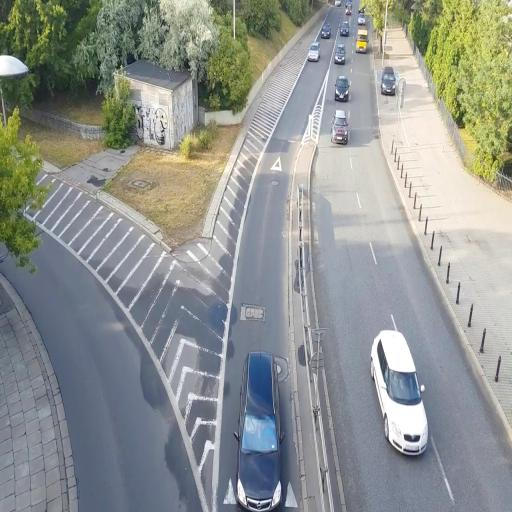vehicle: (370, 325, 429, 457), (235, 351, 284, 509), (331, 113, 349, 146), (380, 67, 398, 96), (334, 74, 350, 102), (334, 43, 348, 64), (308, 41, 320, 62), (320, 20, 332, 40)
